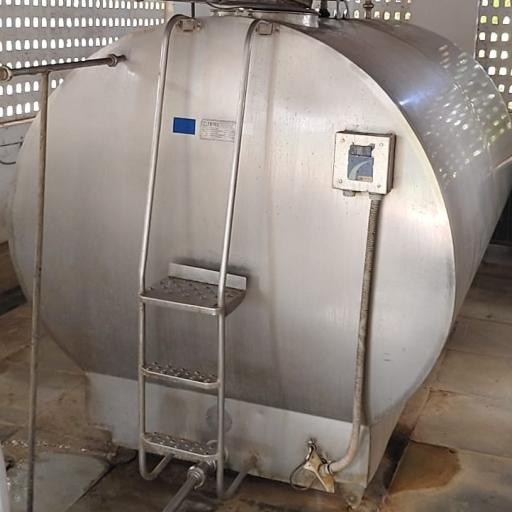silo: (9, 0, 511, 483)
